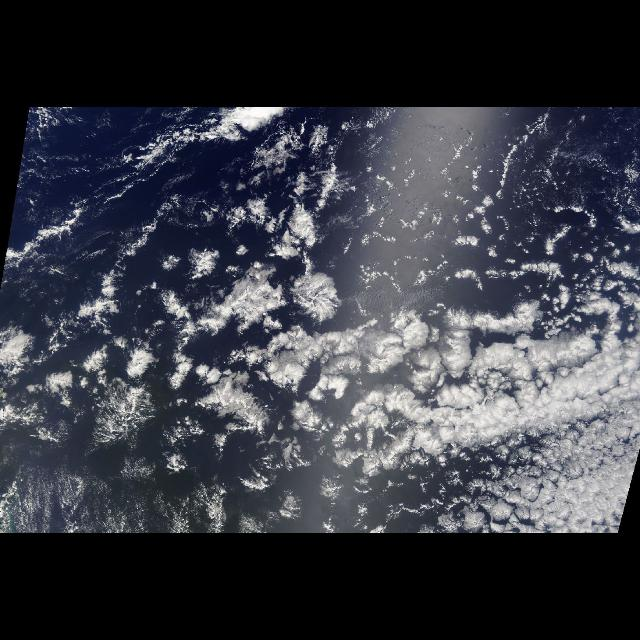Flower: (18, 114, 634, 492)
